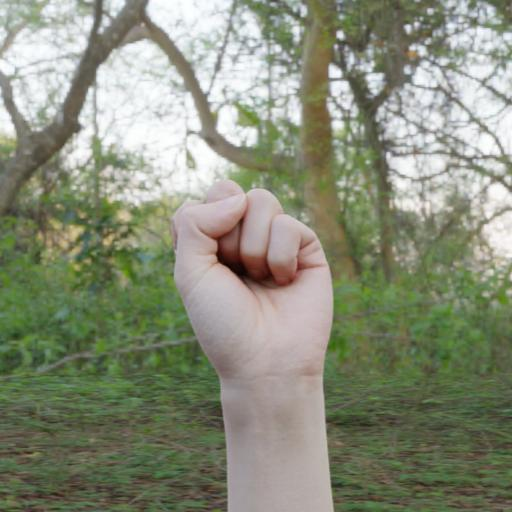S: (160, 170, 344, 512)
